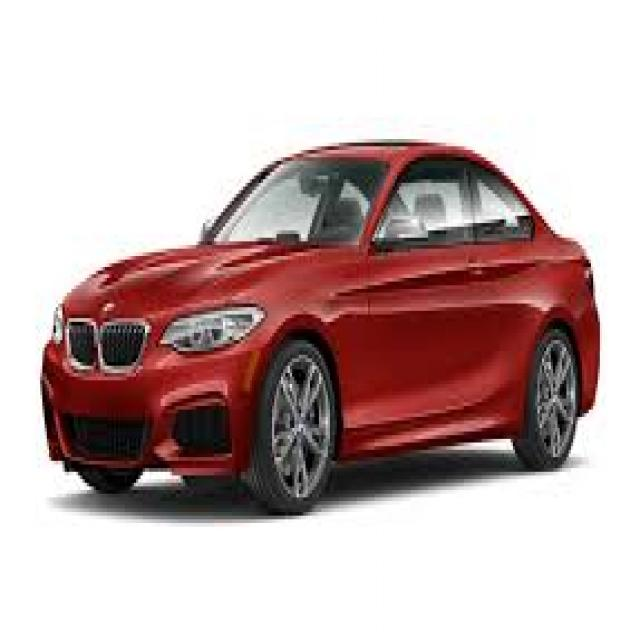Car: (36, 137, 604, 511)
